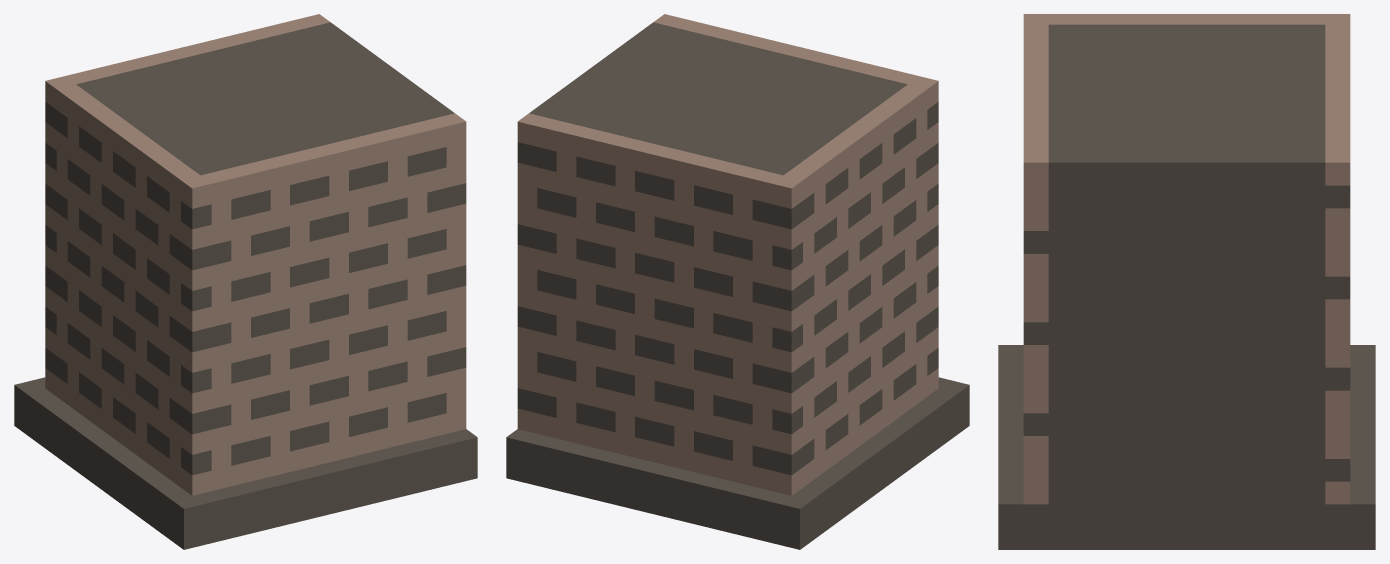
The model's file is dungeon_a_b_inner_wall_ending_flipped.obj.
3 views of the same model, side by side, from view 1: azimuth 30°, elevation 25°; view 2: azimuth 150°, elevation 25°; view 3: azimuth 270°, elevation 25° (orthographic). The views are drawn at different scales.
Size of the model in its own units: 1.5 by 1.7 by 1.5.
1 material, 1 textured.
